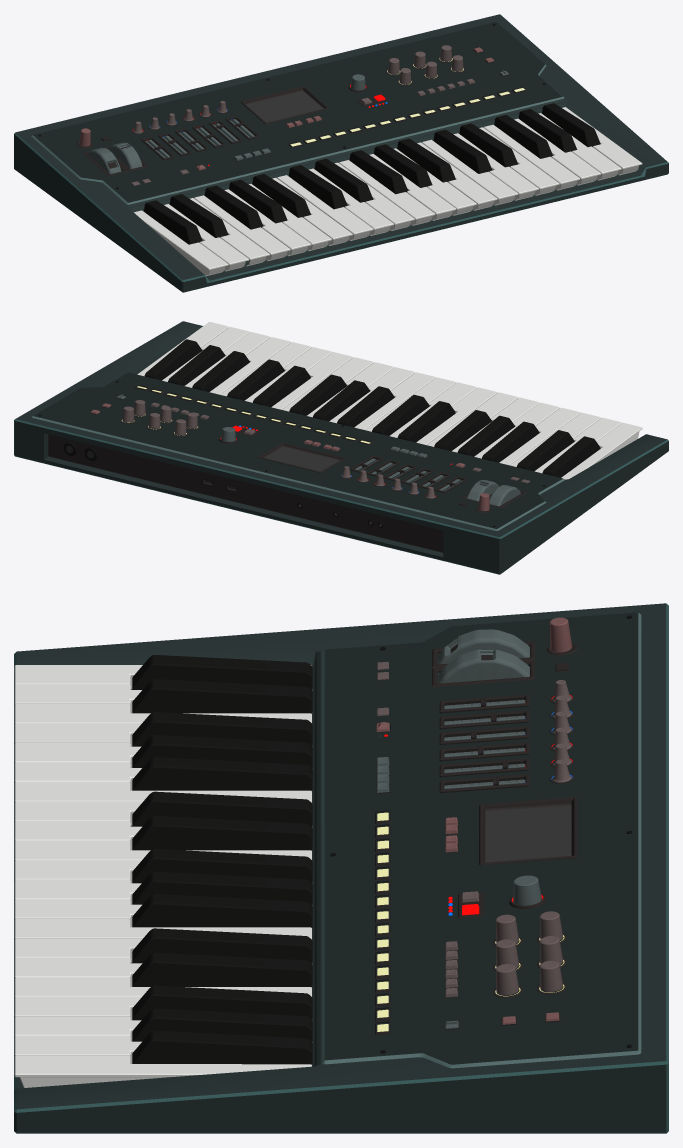
File: synth.glb
The picture shows the model from 3 angles, top to bottom: view 1: azimuth 30°, elevation 25°; view 2: azimuth 150°, elevation 25°; view 3: azimuth 270°, elevation 25°; orthographic projection. The views are drawn at different scales.
Parts seen in each view (by area): view 1: pCube226; view 2: pCube226; view 3: pCube226.
Part boxes in pixels (bbox=[...]): pCube226: bbox=[14, 14, 668, 292]; pCube226: bbox=[14, 321, 668, 574]; pCube226: bbox=[14, 603, 668, 1133].
Bounding box in the file's own units: 40.94 × 4.05 × 24.63.
